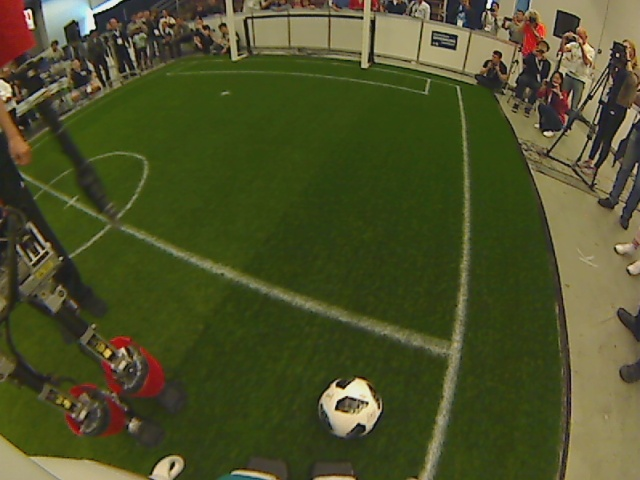ball: (317, 376, 383, 441)
goalpost: (224, 1, 371, 70)
robot: (1, 1, 193, 447)
